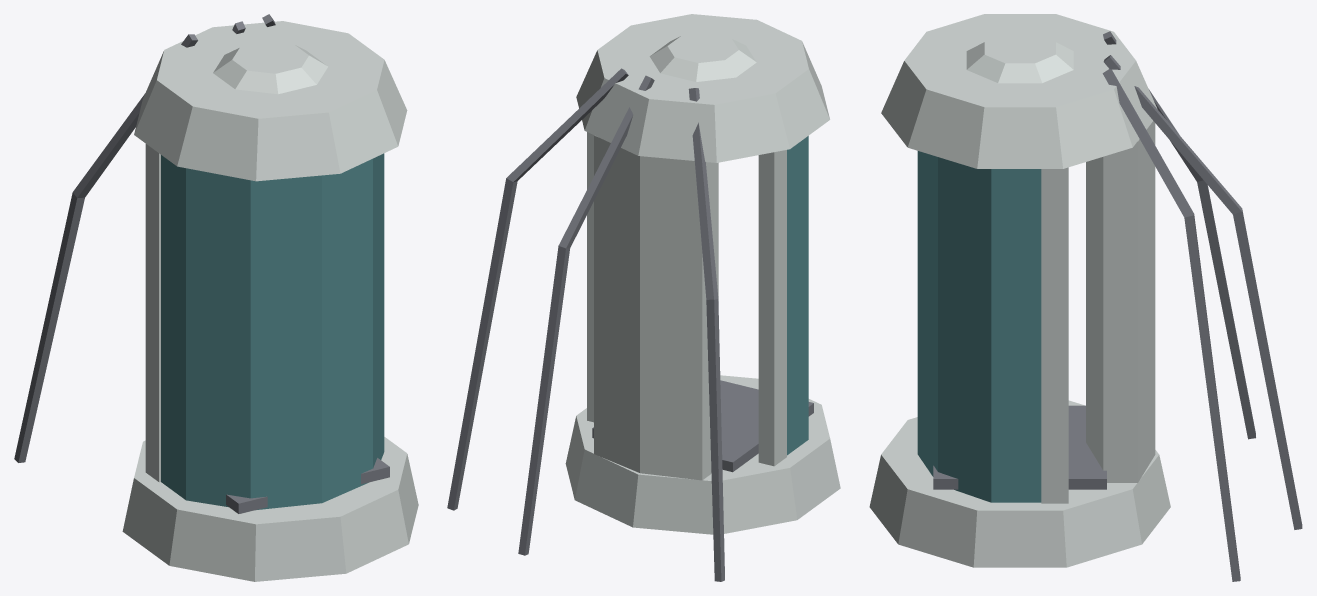
Rendered from lab_pod.glb.
3 views of the same model, side by side, from view 1: azimuth 30°, elevation 25°; view 2: azimuth 150°, elevation 25°; view 3: azimuth 270°, elevation 25° (orthographic). The views are drawn at different scales.
Parts seen in each view (by area): view 1: glass, lab_pod, cables; view 2: lab_pod, cables, glass; view 3: lab_pod, glass, cables.
Boxes of the visible parts, x1=… form: glass: x1=161, y1=153, x2=384, y2=509; lab_pod: x1=122, y1=21, x2=418, y2=581; cables: x1=14, y1=14, x2=389, y2=513; lab_pod: x1=565, y1=14, x2=840, y2=534; cables: x1=447, y1=68, x2=813, y2=581; glass: x1=787, y1=136, x2=808, y2=455; lab_pod: x1=869, y1=14, x2=1170, y2=567; glass: x1=917, y1=151, x2=1041, y2=502; cables: x1=933, y1=31, x2=1302, y2=581.
Size of the model in its own units: 1.8 by 2.62 by 2.24.
